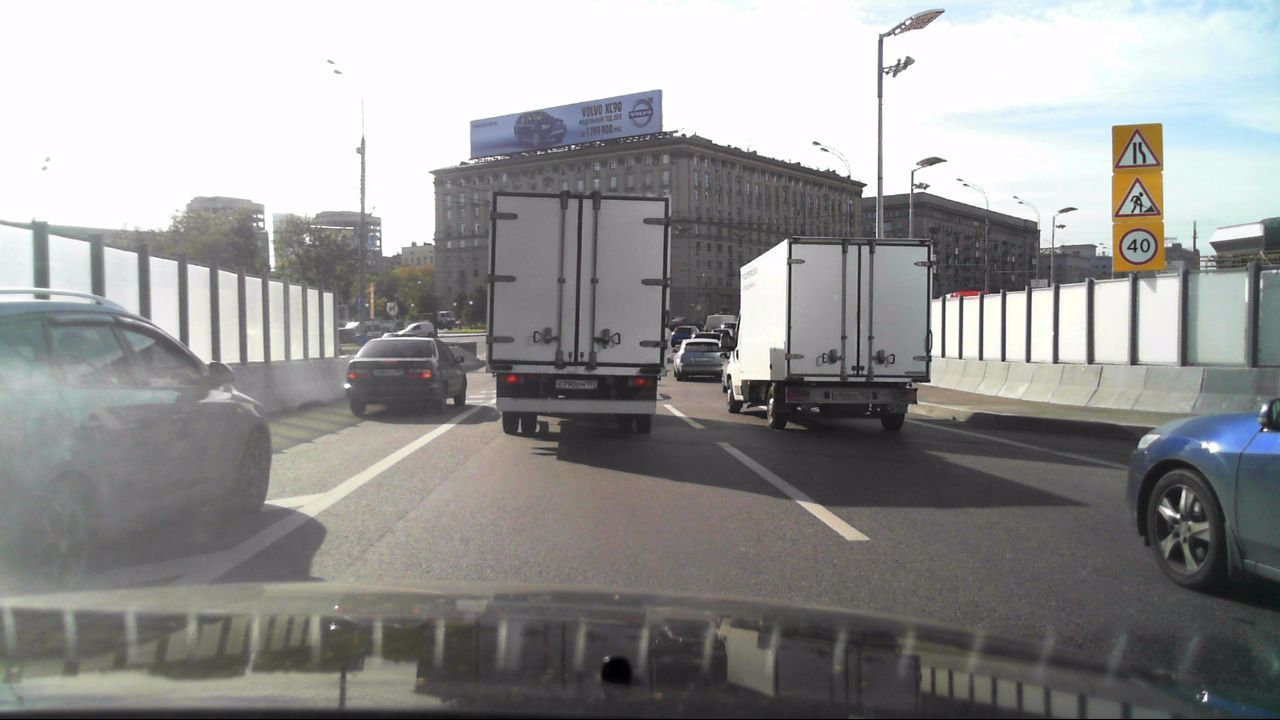speed_warning_40: (1114, 221, 1163, 270)
